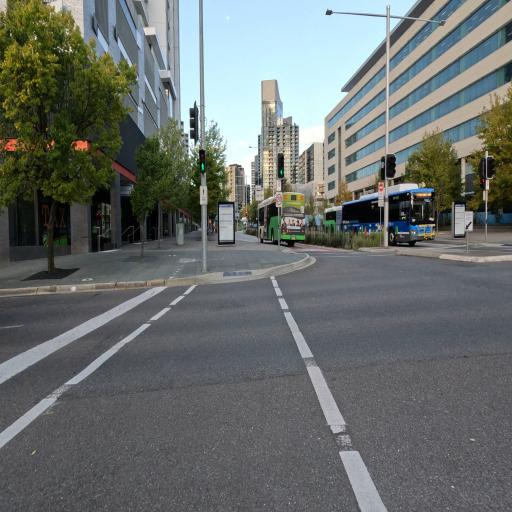kerb_cut: (214, 267, 266, 289)
